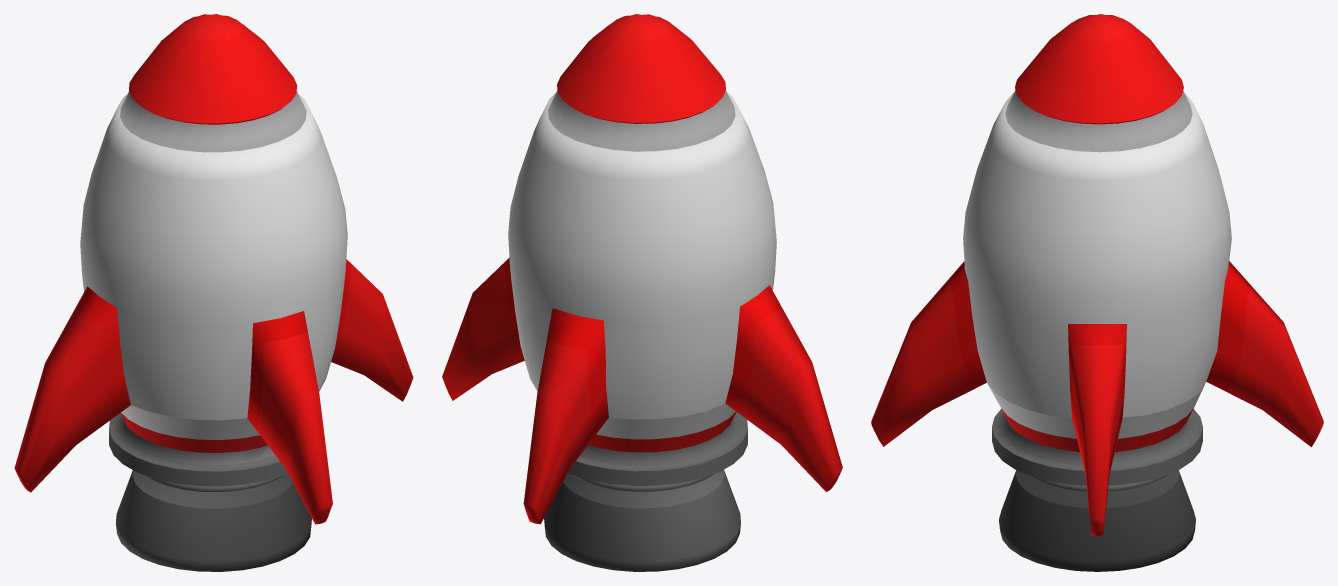
The model's file is Rocket.fbx.
3 renders of one model, left to right at view 1: azimuth 30°, elevation 25°; view 2: azimuth 150°, elevation 25°; view 3: azimuth 270°, elevation 25°, orthographic.
Visible parts, largest first — view 1: Rocket; view 2: Rocket; view 3: Rocket.
Boxes of the visible parts, x1,y1,x2,y2 form: Rocket: (14, 14, 413, 571); Rocket: (442, 14, 842, 571); Rocket: (871, 14, 1323, 571).
Size of the model in its own units: 480 by 600 by 478.
